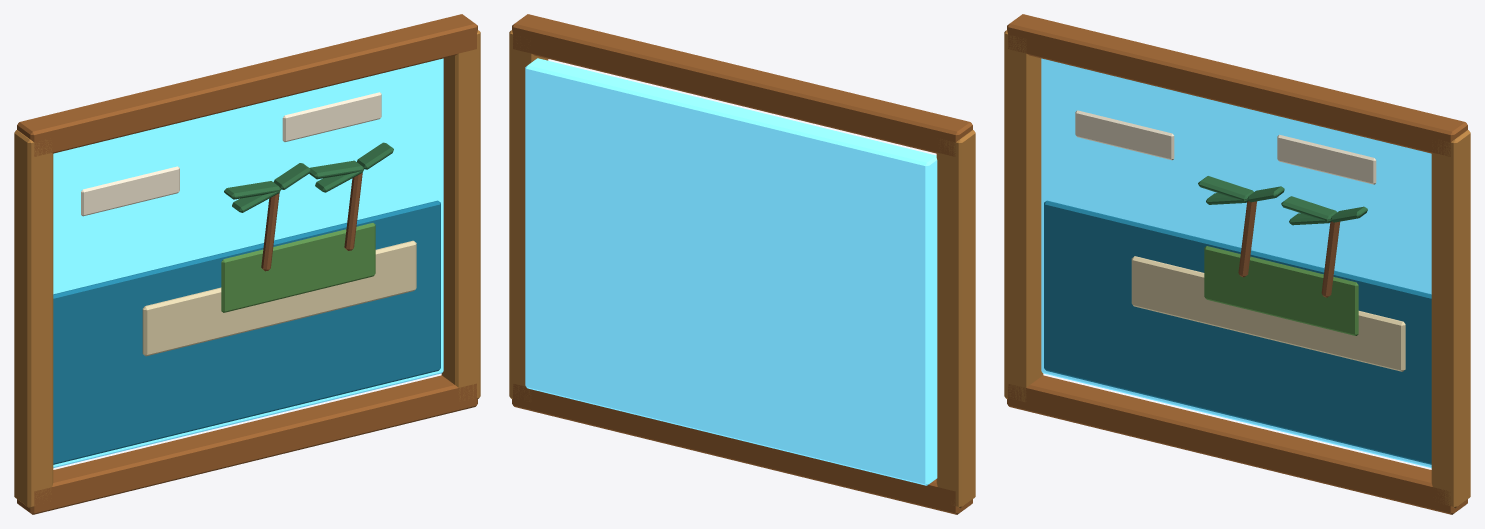
Rendered from island_picture.glb.
The picture shows the model from 3 angles, left to right: view 1: azimuth 30°, elevation 25°; view 2: azimuth 150°, elevation 25°; view 3: azimuth 330°, elevation 25°; orthographic projection.
Parts seen in each view (by area): view 1: island_picture__body__sky, island_picture__body__sea, island_picture__body__oak2, island_picture__body__oak3, island_picture__body__linen, island_picture__body__green2, island_picture__body__cloud, island_picture__body__green, island_picture__body__wood; view 2: island_picture__body__sky, island_picture__body__oak2, island_picture__body__oak3; view 3: island_picture__body__sky, island_picture__body__sea, island_picture__body__oak2, island_picture__body__oak3, island_picture__body__linen, island_picture__body__green2, island_picture__body__cloud, island_picture__body__green, island_picture__body__wood.
Part boxes in pixels (x1,y1,x2,y2): island_picture__body__sky: (53, 58, 443, 467); island_picture__body__sea: (53, 200, 440, 464); island_picture__body__oak2: (17, 14, 477, 514); island_picture__body__oak3: (14, 30, 480, 508); island_picture__body__linen: (142, 240, 416, 356); island_picture__body__green2: (221, 223, 375, 312); island_picture__body__cloud: (81, 92, 381, 216); island_picture__body__green: (224, 142, 393, 212); island_picture__body__wood: (261, 173, 362, 271); island_picture__body__sky: (525, 58, 937, 485); island_picture__body__oak2: (512, 14, 972, 514); island_picture__body__oak3: (509, 30, 975, 508); island_picture__body__sky: (1041, 58, 1431, 467); island_picture__body__sea: (1044, 200, 1431, 464); island_picture__body__oak2: (1007, 14, 1467, 514); island_picture__body__oak3: (1004, 30, 1470, 508); island_picture__body__linen: (1131, 256, 1405, 371); island_picture__body__green2: (1204, 246, 1358, 335); island_picture__body__cloud: (1075, 110, 1376, 184); island_picture__body__green: (1198, 176, 1367, 225); island_picture__body__wood: (1238, 201, 1340, 297).
Size of the model in its own units: 1.14 by 0.925 by 0.1295.
